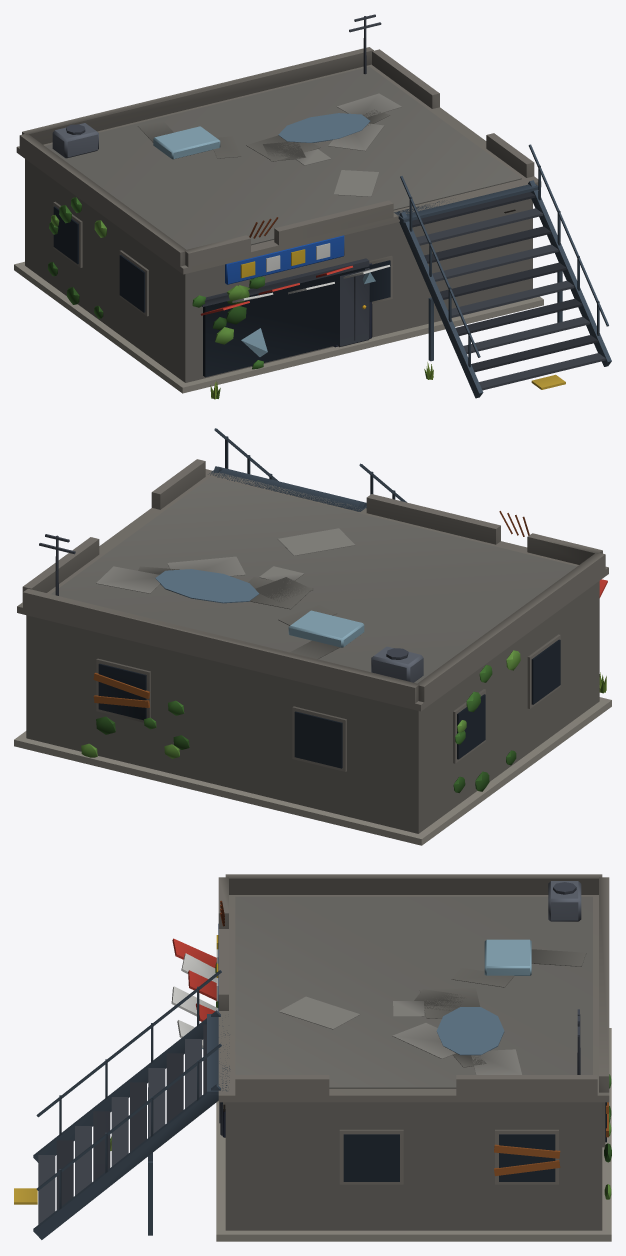
The model's file is p_st_roof_1.glb.
The picture shows the model from 3 angles, top to bottom: view 1: azimuth 30°, elevation 25°; view 2: azimuth 150°, elevation 25°; view 3: azimuth 270°, elevation 25°; orthographic projection. The views are drawn at different scales.
Visible parts, largest first — view 1: body; view 2: body; view 3: body.
Boxes of the visible parts, box(x1,y1,x2,y2) form: body: box(14, 14, 611, 399); body: box(14, 428, 611, 845); body: box(14, 874, 611, 1241).
Size of the model in its own units: 10.42 by 5.11 by 12.7.
